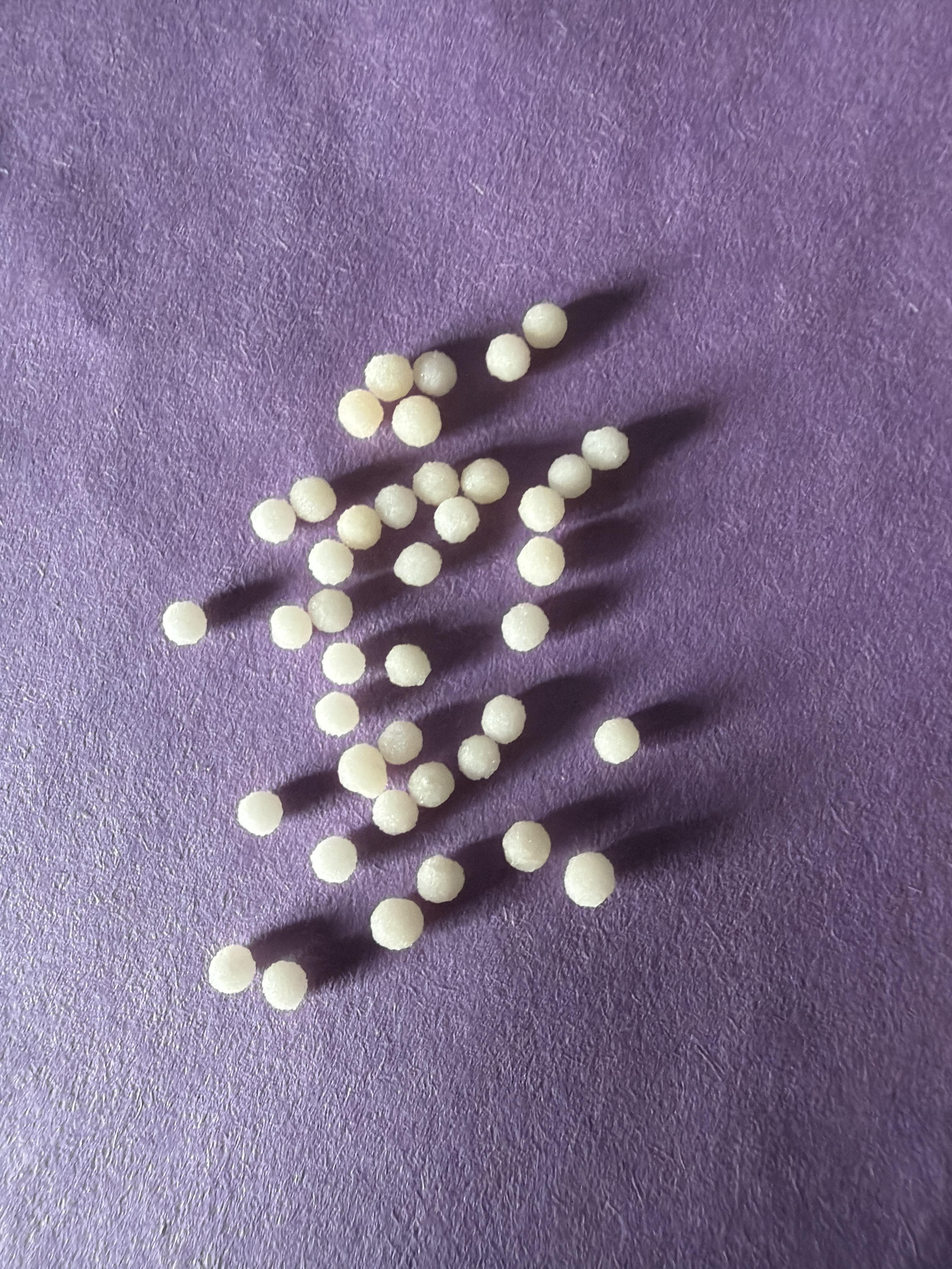pill: (564, 852, 615, 907), (370, 898, 423, 950), (338, 744, 386, 798), (516, 536, 565, 587), (502, 821, 550, 872), (393, 396, 441, 447), (365, 353, 413, 402), (208, 945, 256, 994), (261, 960, 307, 1011), (416, 855, 464, 903), (337, 389, 383, 439), (501, 604, 549, 651), (461, 458, 509, 505), (518, 486, 565, 533), (310, 836, 357, 883), (481, 695, 526, 744), (594, 717, 640, 764), (408, 762, 454, 808), (250, 498, 296, 544), (394, 542, 441, 587), (485, 334, 530, 381), (308, 539, 353, 586), (289, 477, 336, 522), (434, 496, 479, 543), (522, 302, 567, 349), (412, 461, 459, 506), (581, 426, 629, 470), (372, 790, 418, 835), (237, 791, 283, 836), (377, 720, 423, 765), (412, 351, 457, 397), (269, 605, 314, 650), (162, 601, 207, 646), (314, 692, 360, 736), (308, 589, 353, 633), (385, 644, 431, 687), (337, 506, 381, 550), (321, 642, 366, 685), (374, 484, 417, 529), (458, 735, 500, 781), (548, 454, 591, 498)
